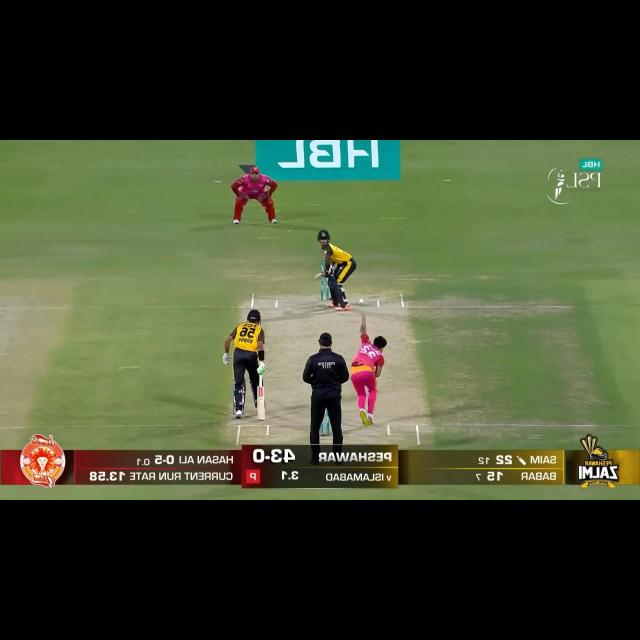bat: (256, 387, 264, 421), (312, 272, 325, 281)
toe: (314, 275, 321, 281), (258, 416, 264, 420)
